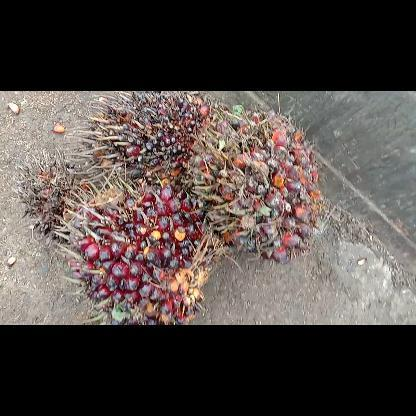TBS abnormal: (75, 92, 213, 192), (12, 146, 98, 244)
TBS masak: (50, 170, 228, 324), (184, 101, 324, 265)
